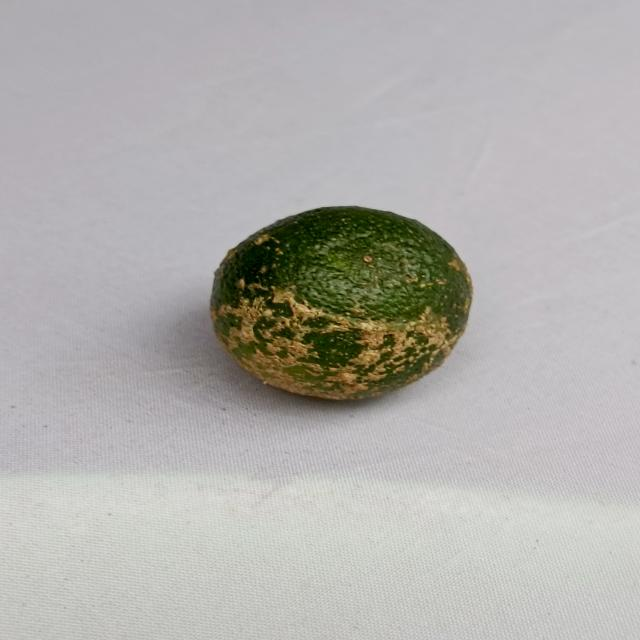scab: (202, 198, 476, 400)
